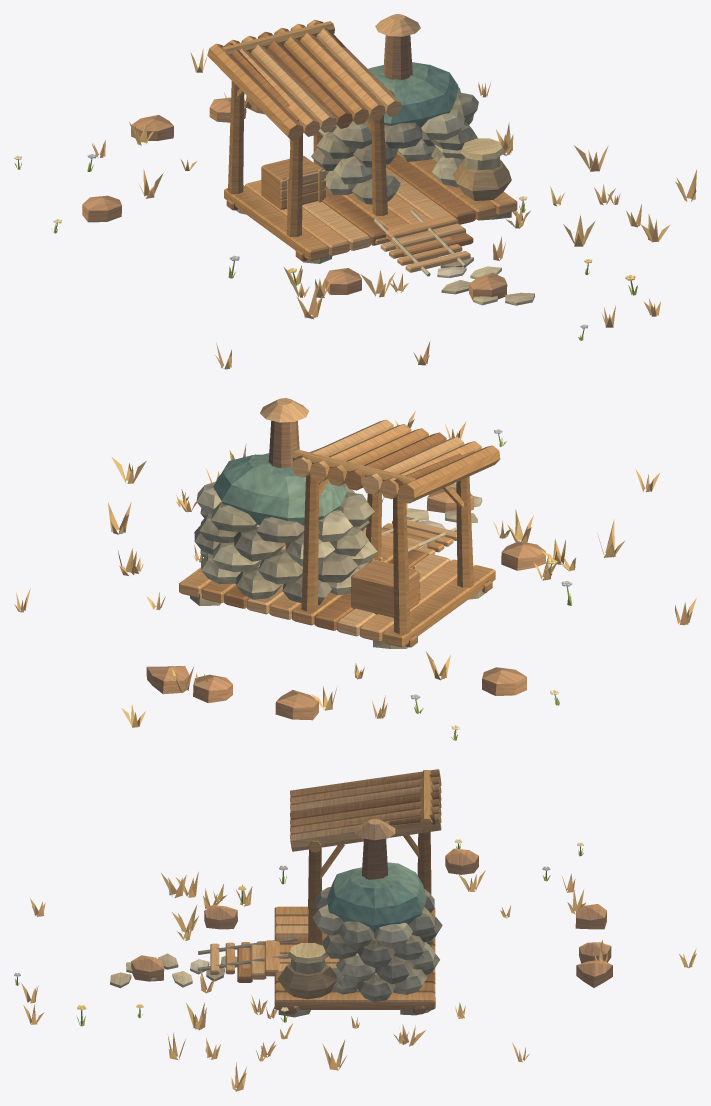
File: watch_kiln.glb
3 views of the same model, one above another, from view 1: azimuth 30°, elevation 25°; view 2: azimuth 150°, elevation 25°; view 3: azimuth 270°, elevation 25° (orthographic). The views are drawn at different scales.
Parts seen in each view (by area): view 1: Wegwacht · kiln; view 2: Wegwacht · kiln; view 3: Wegwacht · kiln.
Part boxes in pixels (x1=…): Wegwacht · kiln: x1=14, y1=14, x2=696, y2=369; Wegwacht · kiln: x1=14, y1=398, x2=696, y2=740; Wegwacht · kiln: x1=14, y1=769, x2=696, y2=1091.
Bounding box in the file's own units: 8.77 × 3.35 × 10.51.
Materials: 4 (3 with a texture image).
